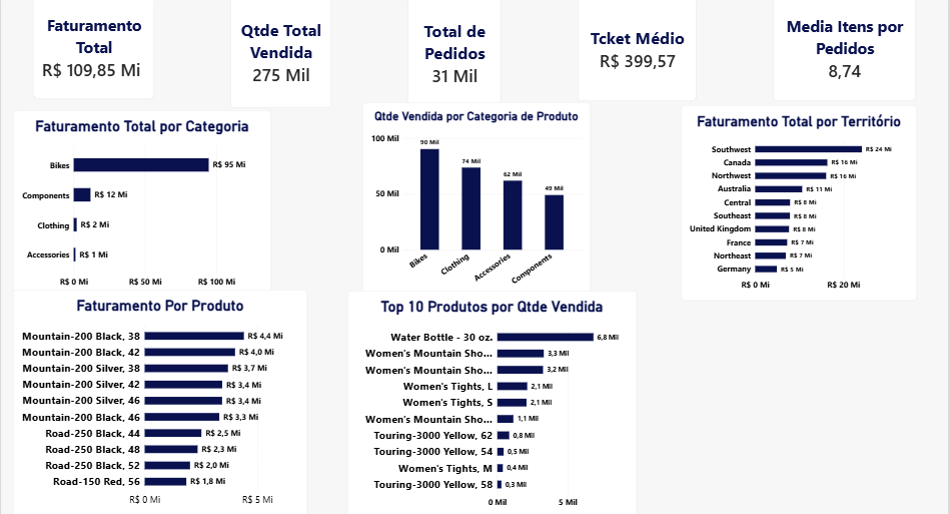

The page's visual inventory and layout, read from the dashboard file:
{"tool":"powerbi","page":{"name":"Página 1","canvas":[1920,1080],"ordinal":0},"visuals":[{"type":"textbox","box":[10,0,280,280],"z":0},{"type":"cardVisual","fields":{"Data":["Medidas.Faturamento Total"]},"box":[65,0,245.6,211.1],"z":1000},{"type":"cardVisual","fields":{"Data":["Medidas.Qtde Total Vendida"]},"box":[464.9,0,205,229.4],"z":2000},{"type":"cardVisual","fields":{"Data":["Medidas.Total de Pedidos"]},"box":[824.2,0,190.8,233.5],"z":3000},{"type":"cardVisual","fields":{"Data":["Medidas.Tcket Médio"]},"box":[1169.3,0,241.6,215.2],"z":4000},{"type":"cardVisual","fields":{"Data":["Medidas.Media Itens por Pedidos"]},"box":[1565.2,0,290.3,215.2],"z":4001},{"type":"barChart","title":"Faturamento Total por Categoria","fields":{"Category":["Production ProductCategory.Name"],"Y":["Medidas.Faturamento Total"]},"box":[24.4,233.3,523.8,379.6],"z":4002},{"type":"columnChart","title":"Qtde Vendida por Categoria de Produto","fields":{"Category":["Production ProductCategory.Name"],"Y":["Medidas.Qtde Total Vendida"]},"box":[731.8,217,462.9,402],"z":4003},{"type":"barChart","title":"Faturamento Total por Território","fields":{"Category":["Sales SalesTerritory.Name"],"Y":["Medidas.Faturamento Total"]},"box":[1378.4,223.3,479.1,395.9],"z":4005},{"type":"barChart","title":"Faturamento Por Produto","fields":{"Category":["Production Product.Name"],"Y":["Medidas.Faturamento Total"]},"box":[24.4,596.8,596.8,460.8],"z":4006},{"type":"barChart","title":"Top 10 Produtos por Qtde Vendida","fields":{"Category":["Production Product.Name"],"Y":["Medidas.Qtde Total Vendida"]},"box":[702.4,598.9,692.3,460.8],"z":4007}]}

Visuals, with their boxes on the page's 1920x1080 design canvas (x1, y1, x2, y2). These are canvas units, not pixel positions in the 950x514 screenshot, which may show the page scaled, cropped or inside an application window:
textbox: rect(10, 0, 290, 280)
cardVisual - Medidas.Faturamento Total: rect(65, 0, 311, 211)
cardVisual - Medidas.Qtde Total Vendida: rect(465, 0, 670, 229)
cardVisual - Medidas.Total de Pedidos: rect(824, 0, 1015, 234)
cardVisual - Medidas.Tcket Médio: rect(1169, 0, 1411, 215)
cardVisual - Medidas.Media Itens por Pedidos: rect(1565, 0, 1856, 215)
"Faturamento Total por Categoria" barChart: rect(24, 233, 548, 613)
"Qtde Vendida por Categoria de Produto" columnChart: rect(732, 217, 1195, 619)
"Faturamento Total por Território" barChart: rect(1378, 223, 1858, 619)
"Faturamento Por Produto" barChart: rect(24, 597, 621, 1058)
"Top 10 Produtos por Qtde Vendida" barChart: rect(702, 599, 1395, 1060)
